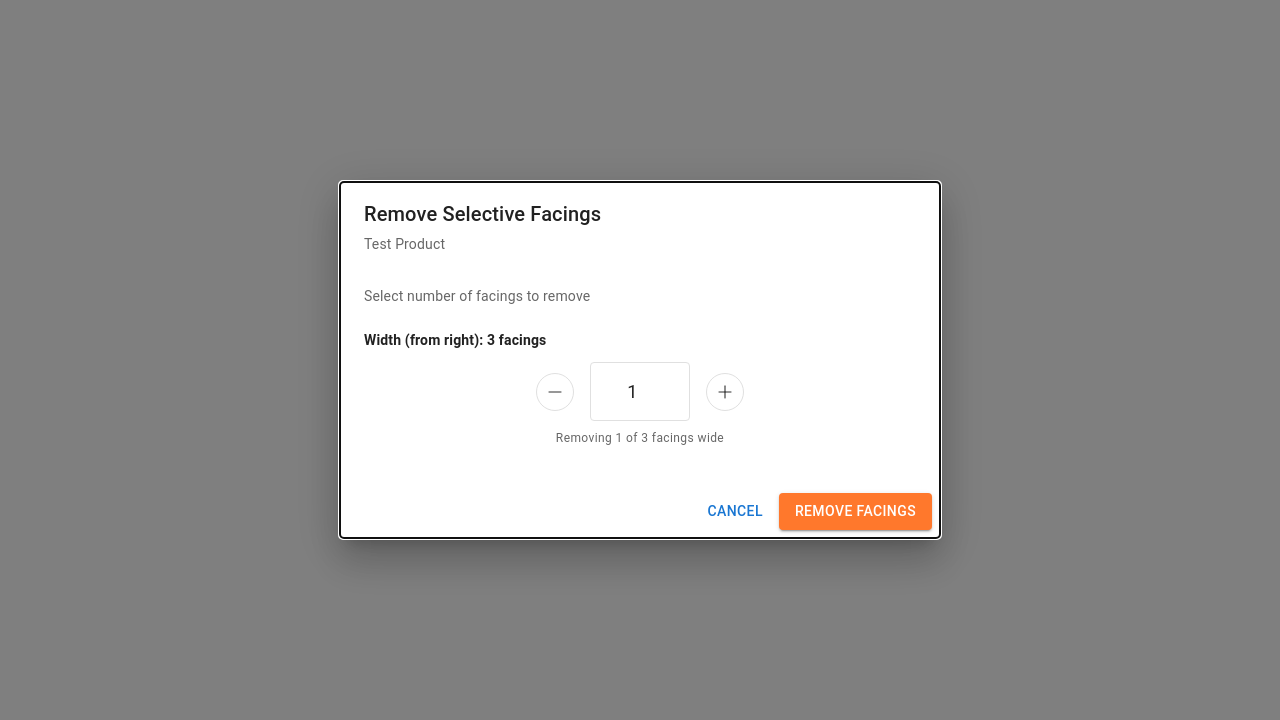
Test: SelectiveFacingsDialog › Wide facings controls › increases facingsWideToRemove when plus button is clicked
Click the 2nd button.
click(725, 392)  # box [706,373,744,411]
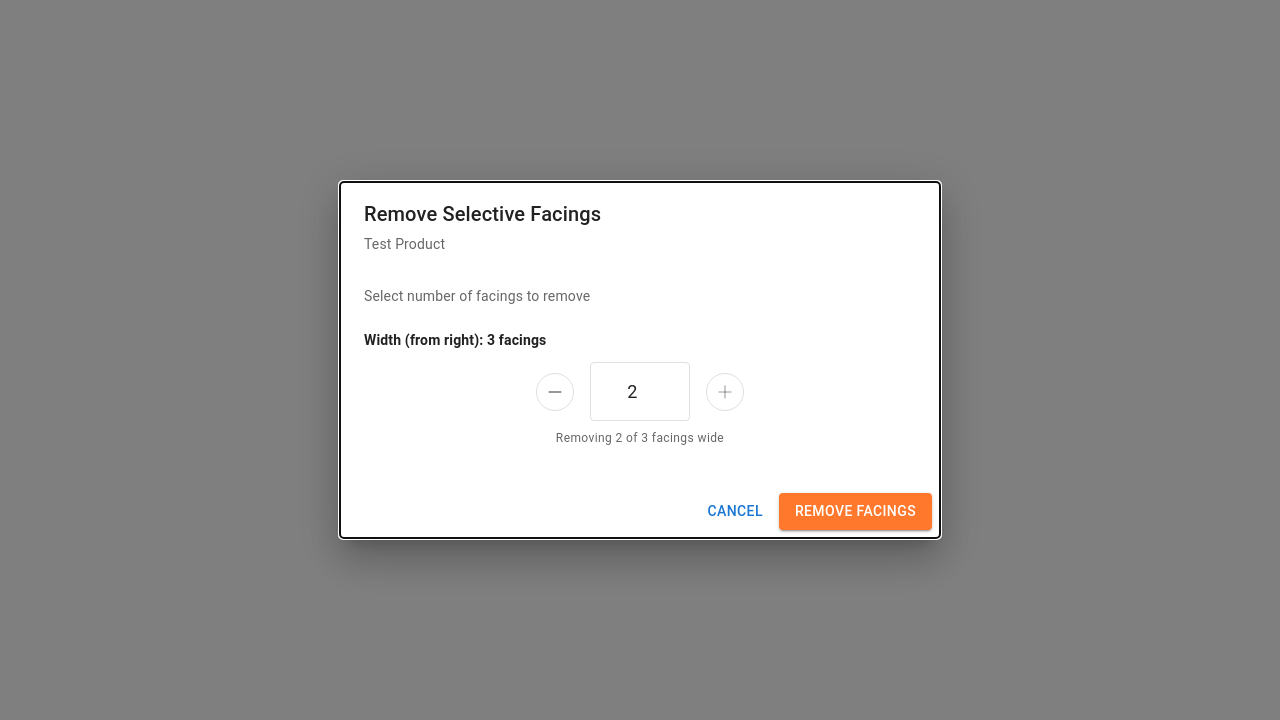
Check: the number field holds "2", box [590,362,690,421]
